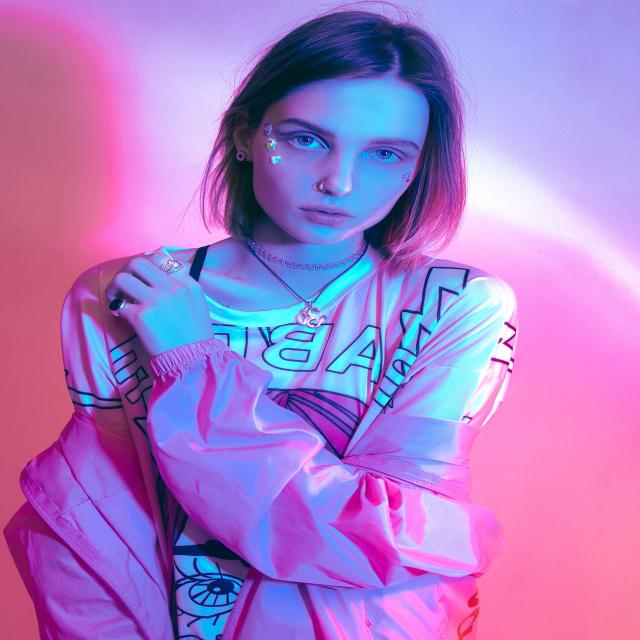adult: (57, 14, 523, 640)
